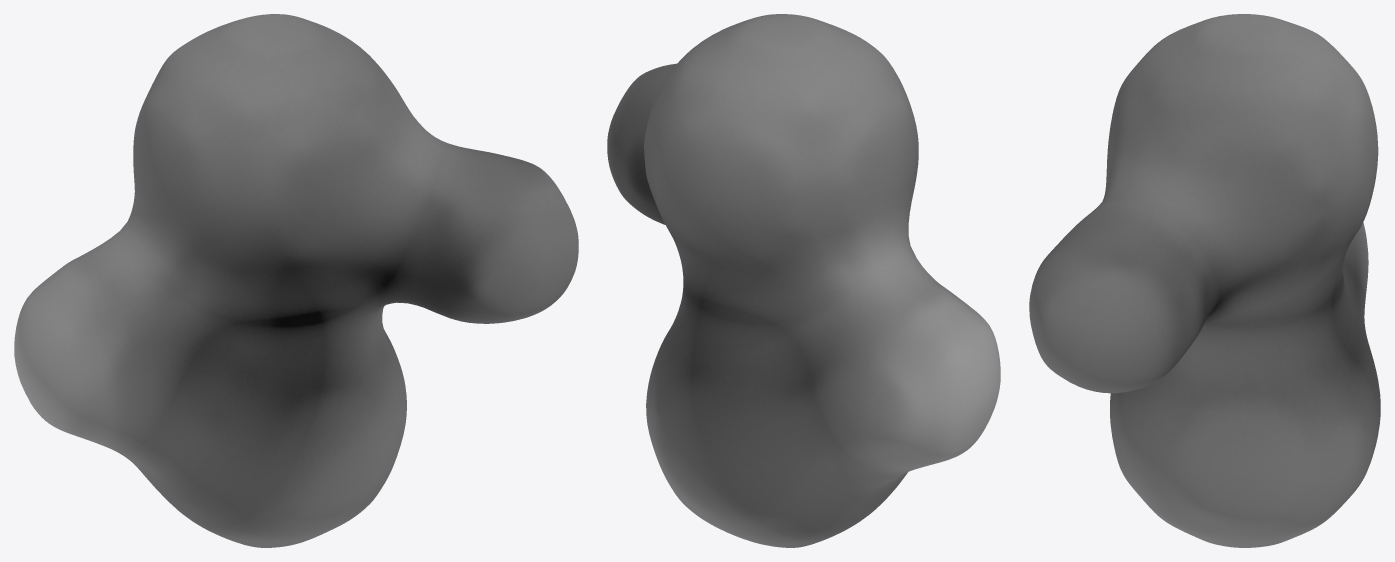
Rendered from metaball.glb.
The picture shows the model from 3 angles, left to right: view 1: azimuth 30°, elevation 25°; view 2: azimuth 150°, elevation 25°; view 3: azimuth 270°, elevation 25°; orthographic projection.
Visible parts, largest first — view 1: Mball.001; view 2: Mball.001; view 3: Mball.001.
Part boxes in pixels (<box>): Mball.001: <box>14,14,578,547</box>; Mball.001: <box>607,14,1000,547</box>; Mball.001: <box>1029,14,1380,547</box>.
Size of the model in its own units: 4.18 by 4.42 by 2.79.
1 material, 1 textured.
